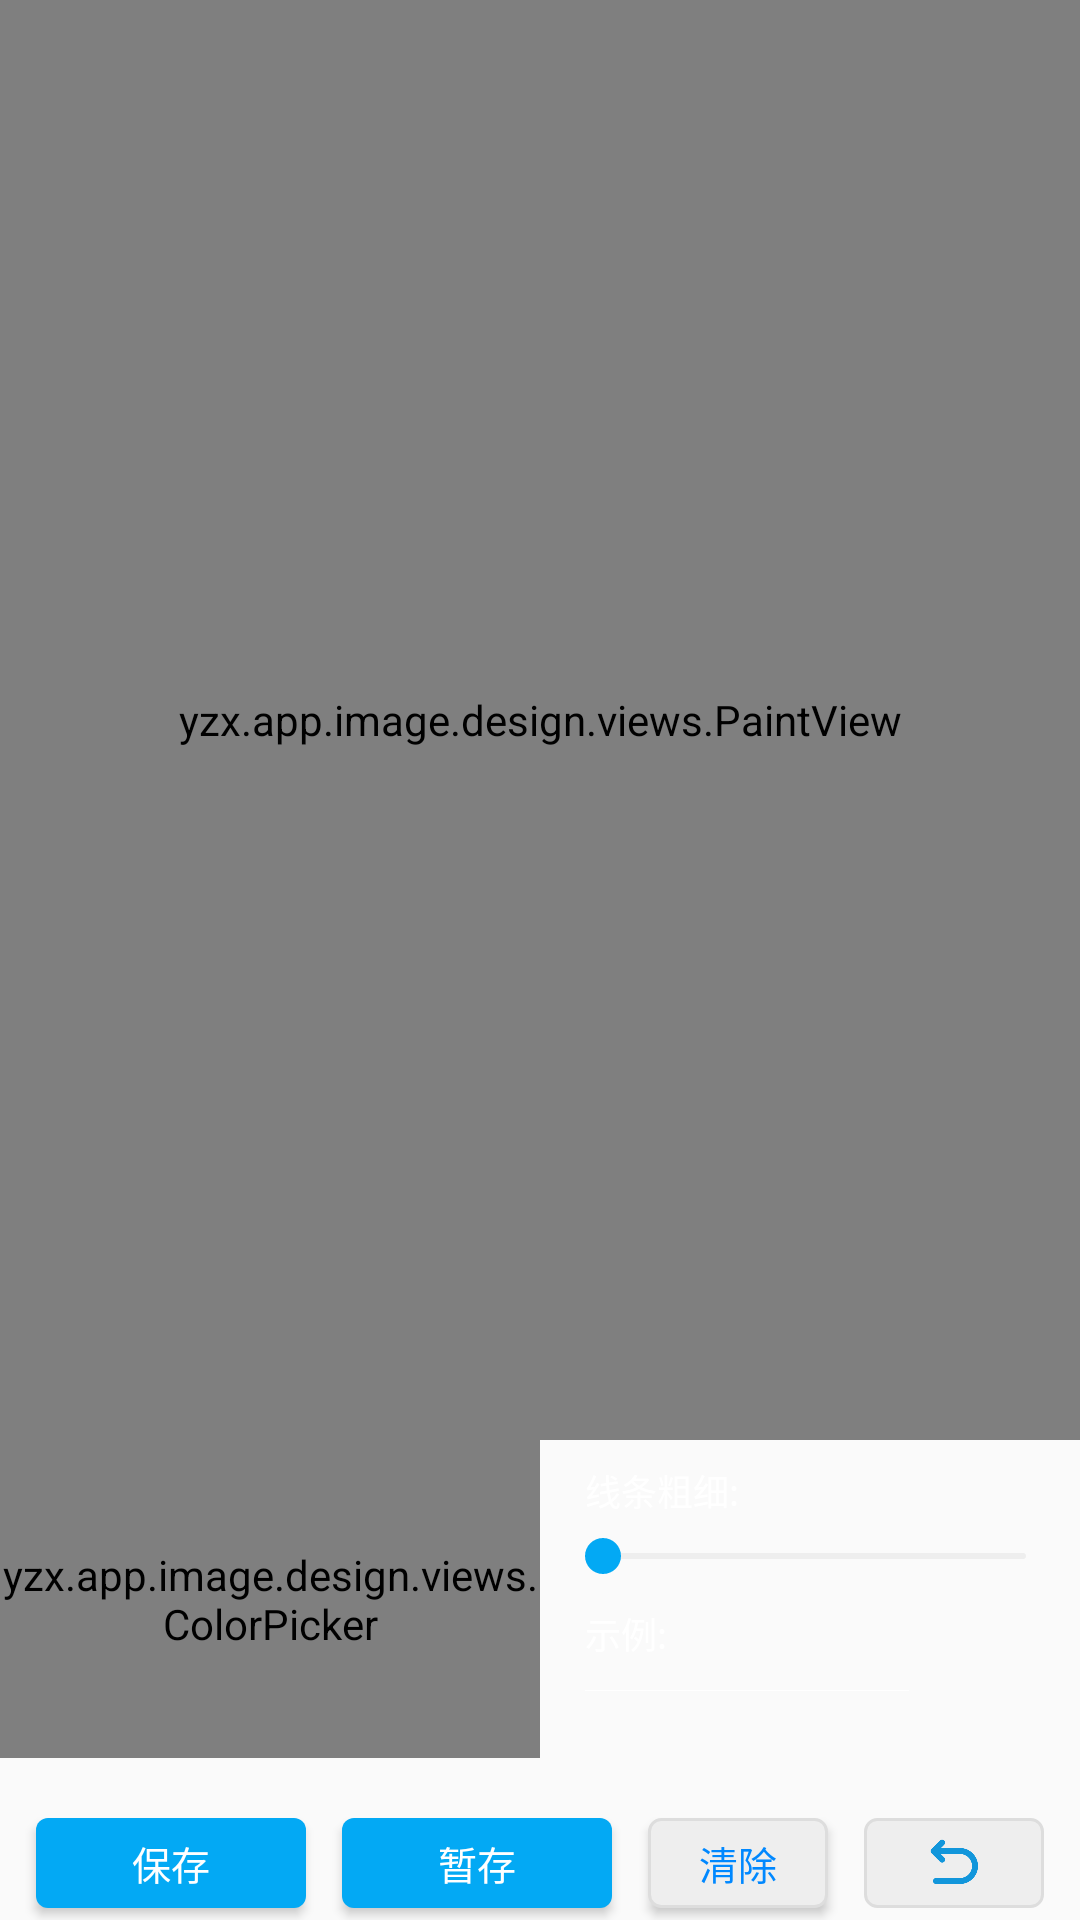

Where to tap for icons on this 1080px×1920px app screen, as (x=x, y=y):
revoke: (x=954, y=1863)
